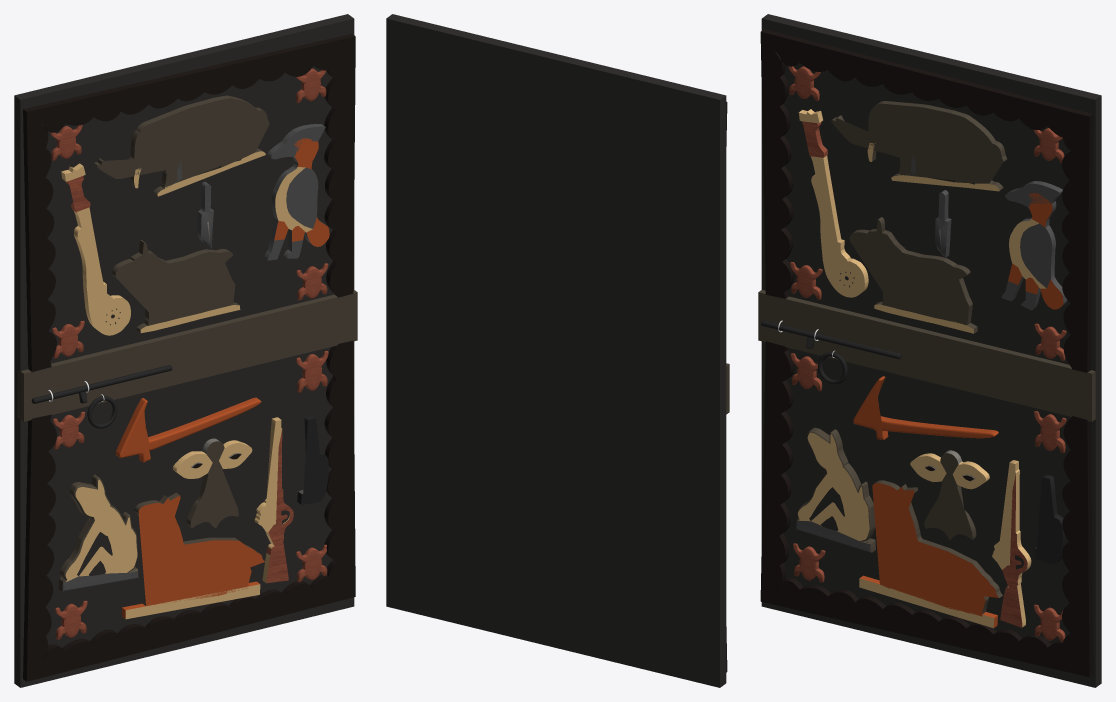
Rendered from Portail_1.fbx.
3 renders of one model, left to right at view 1: azimuth 30°, elevation 25°; view 2: azimuth 150°, elevation 25°; view 3: azimuth 330°, elevation 25°, orthographic.
Visible parts, largest first — view 1: Cube, Extrusion_9, Cube_1, Extrusion_3, Extrusion, Extrusion_7, Extrusion_2, Extrusion_5_2, Extrusion_1, Extrusion_5, Extrusion_4, Extrusion_7_2 (+10 smaller); view 2: Cube; view 3: Cube, Extrusion_9, Cube_1, Extrusion_3, Extrusion, Extrusion_7, Extrusion_5_2, Extrusion_2, Extrusion_1, Extrusion_5, Extrusion_4, Extrusion_7_2 (+10 smaller).
Boxes of the visible parts, x1,y1,x2,y2 form: Cube: (14, 14, 354, 687); Extrusion_9: (23, 33, 355, 681); Cube_1: (17, 290, 357, 421); Extrusion_3: (122, 415, 328, 619); Extrusion: (93, 95, 269, 196); Extrusion_7: (112, 240, 240, 333); Extrusion_2: (264, 124, 329, 260); Extrusion_5_2: (58, 474, 138, 591); Extrusion_1: (61, 163, 130, 335); Extrusion_5: (172, 438, 252, 528); Extrusion_4: (254, 417, 293, 583); Extrusion_7_2: (115, 397, 261, 462); Cube: (386, 14, 726, 687); Cube: (761, 14, 1101, 687); Extrusion_9: (760, 29, 1093, 676); Cube_1: (758, 290, 1095, 421); Extrusion_3: (859, 475, 1066, 628); Extrusion: (831, 101, 1007, 191); Extrusion_7: (849, 217, 977, 333); Extrusion_5_2: (796, 427, 875, 552); Extrusion_2: (1001, 181, 1067, 310); Extrusion_1: (798, 109, 868, 297); Extrusion_5: (910, 450, 989, 540); Extrusion_4: (992, 460, 1031, 627); Extrusion_7_2: (853, 376, 998, 439).
Bounding box in the file's own units: 481 × 810 × 39.05.
9 materials, 1 textured.
